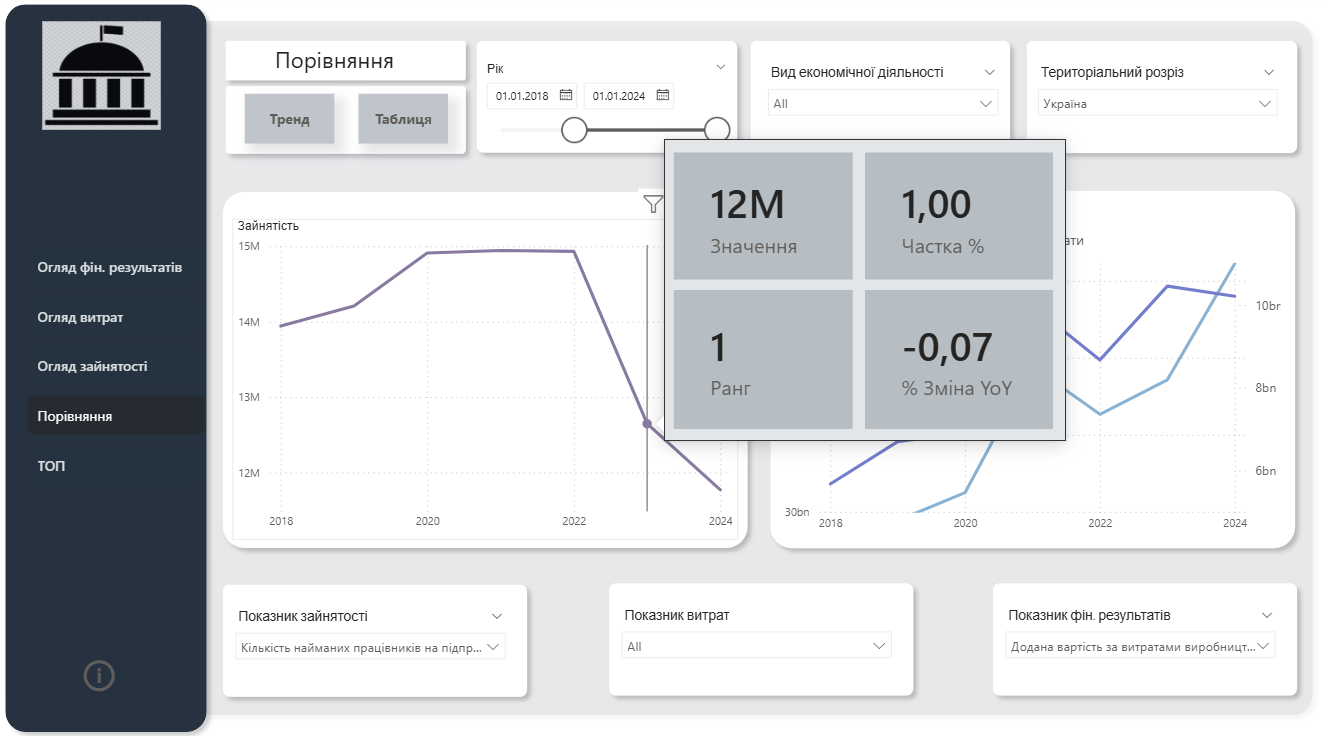

The page's visual inventory and layout, read from the dashboard file:
{"tool":"powerbi","page":{"name":"Tooltip_Activity_3","canvas":[320,240],"ordinal":8},"visuals":[{"type":"cardVisual","fields":{"Data":["Fact_Employment.EMP Значення"]},"box":[7,10,143,102],"z":0},{"type":"cardVisual","fields":{"Data":["Fact_Employment.EMP Частка %"]},"box":[160,10,150,102],"z":1000},{"type":"cardVisual","fields":{"Data":["Fact_Employment.EMP Ранг"]},"box":[7,120,143,111],"z":2000},{"type":"cardVisual","fields":{"Data":["Fact_Employment.EMP % Зміна YoY"]},"box":[160,120,150,111],"z":3000}]}

Visuals, with their boxes on the page's 320x240 design canvas (x1, y1, x2, y2). These are canvas units, not pixel positions in the 1321x736 screenshot, which may show the page scaled, cropped or inside an application window:
cardVisual - Fact_Employment.EMP Значення: 7,10,150,112
cardVisual - Fact_Employment.EMP Частка %: 160,10,310,112
cardVisual - Fact_Employment.EMP Ранг: 7,120,150,231
cardVisual - Fact_Employment.EMP % Зміна YoY: 160,120,310,231
